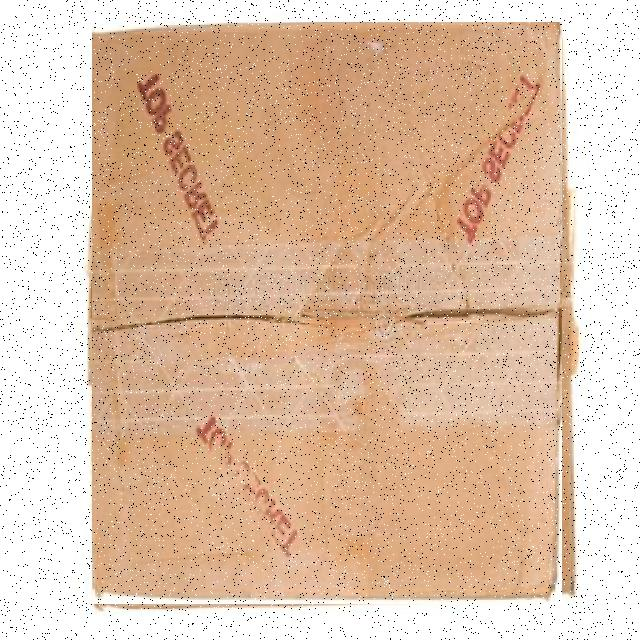normal: (92, 22, 562, 604)
